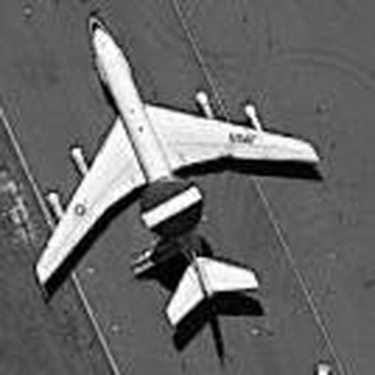airplane: (24, 9, 331, 336)
